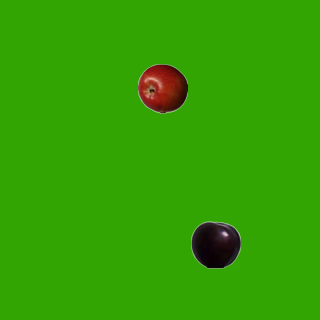Apple Braeburn: (137, 63, 187, 113)
Cherry Wax Black: (190, 219, 240, 269)
